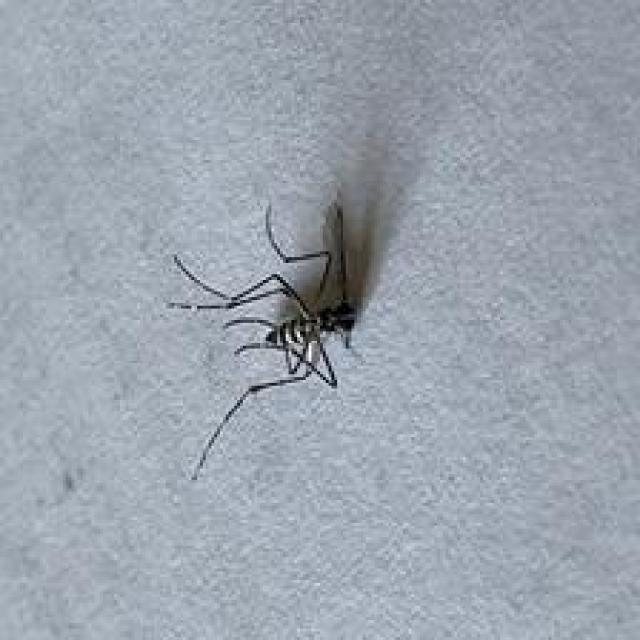Aedes albopictus: (166, 198, 360, 482)
